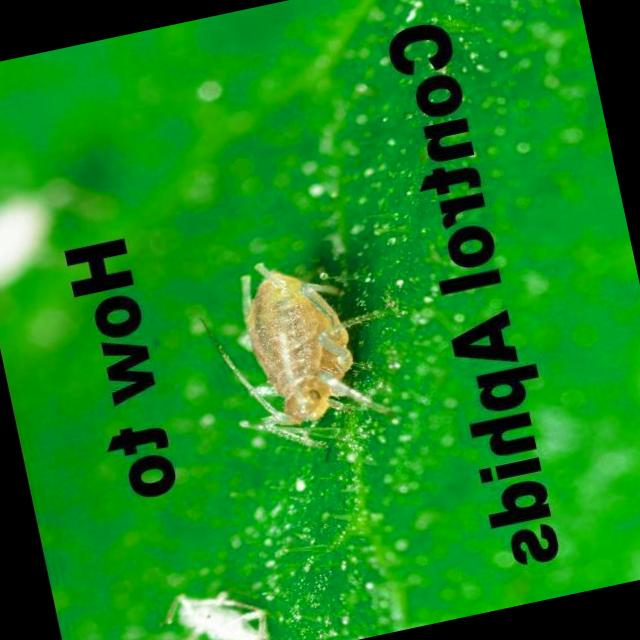aphid: (244, 265, 376, 424)
